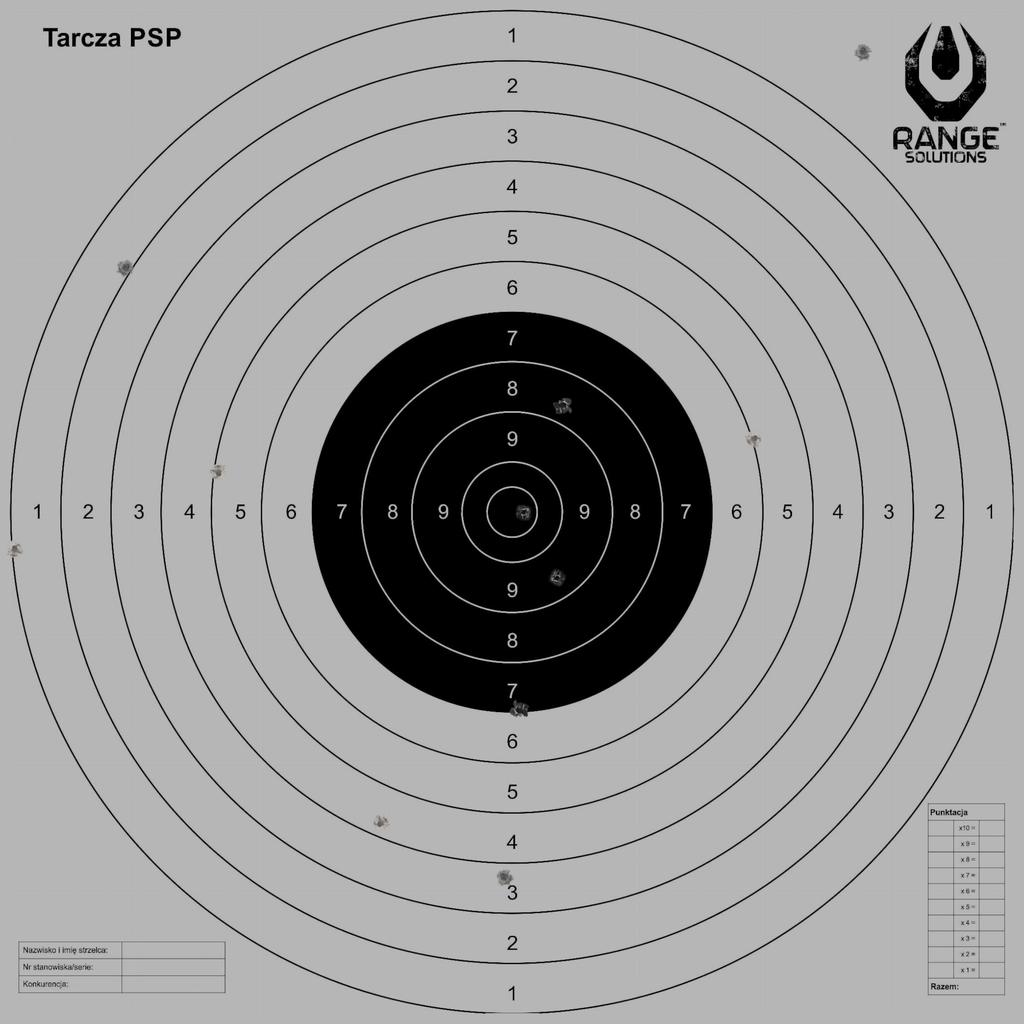0 punktow: (854, 42, 872, 61)
1 punkt: (6, 540, 24, 558)
10 punktow: (515, 503, 533, 521)
2 punkty: (116, 258, 135, 277)
3 punkty: (495, 868, 514, 886)
4 punkty: (371, 814, 390, 833)
5 punktow: (209, 464, 228, 482)
6 punktow: (745, 430, 764, 448)
7 punktow: (511, 701, 529, 719)
8 punktow: (553, 396, 572, 415)
9 punktow: (547, 569, 566, 587)
